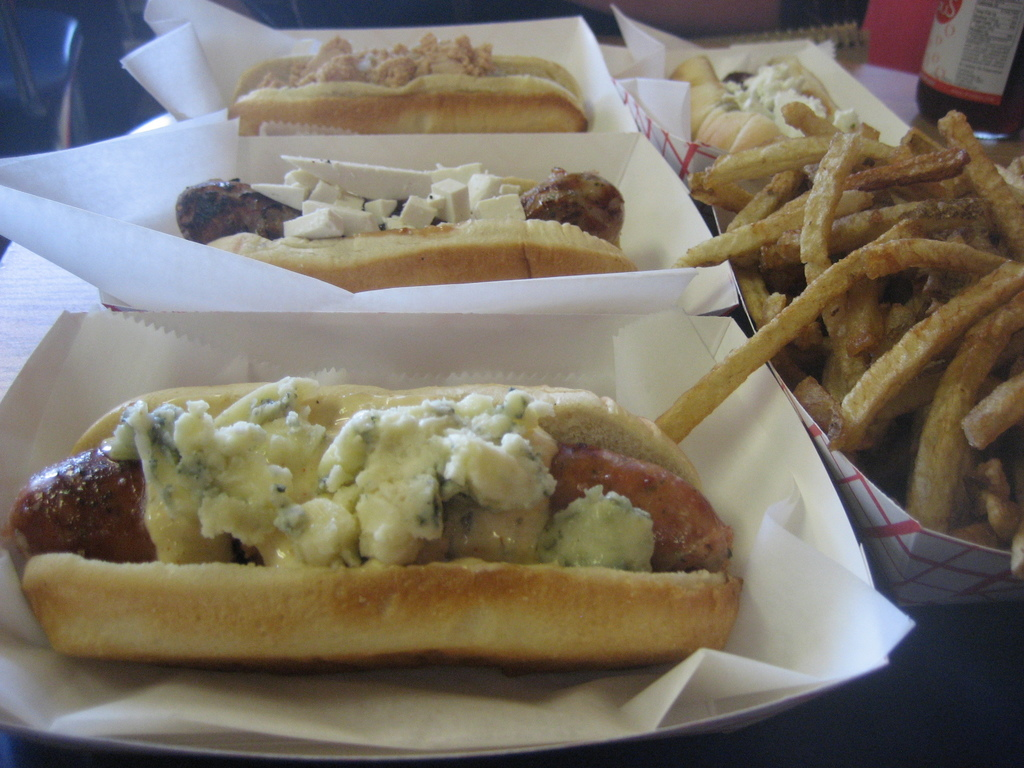French fries: (656, 55, 1024, 533)
